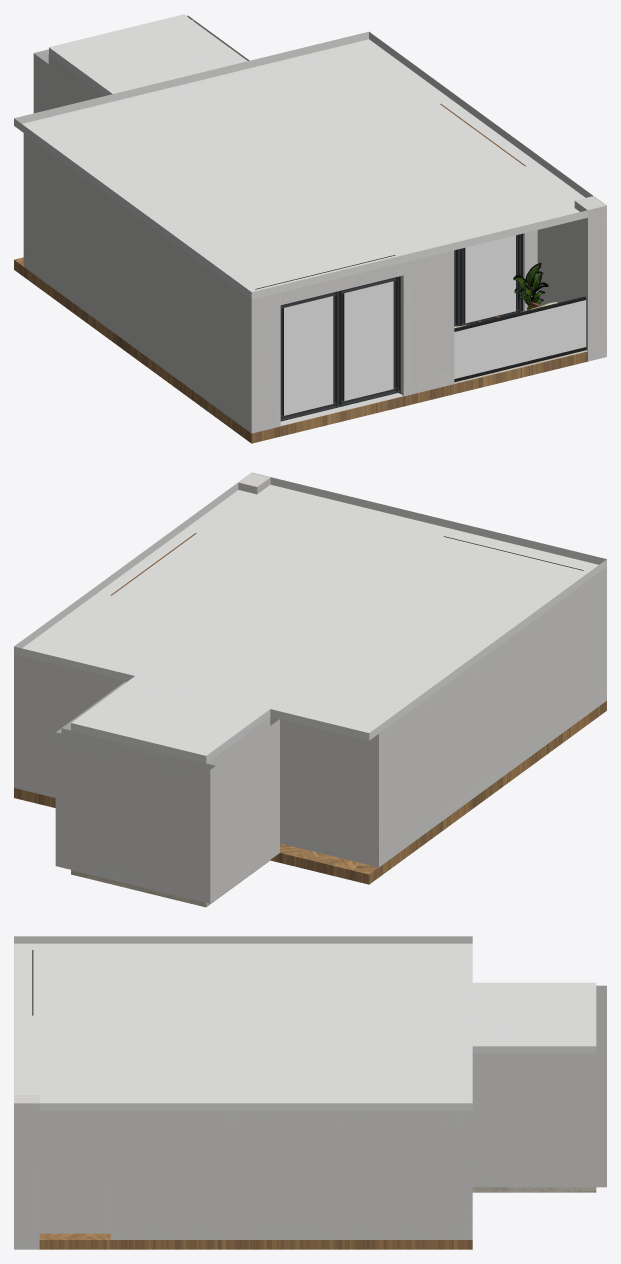
The picture shows the model from 3 angles, top to bottom: view 1: azimuth 30°, elevation 25°; view 2: azimuth 150°, elevation 25°; view 3: azimuth 270°, elevation 25°; orthographic projection. The views are drawn at different scales.
Visible parts, largest first — view 1: ceiling, wall, landing_ceiling, column, rail_glass, floor, living_window_glass1, living_window_glass0, wall.022, loggia_wall_end, bedroom_loggia_glass1, wall.025 (+8 smaller); view 2: ceiling, wall, landing_wall_n, wall.001, landing_ceiling, landing_wall_w, wall.005, floor, wall.017, wall.022, landing_floor; view 3: ceiling, wall.017, landing_wall_e, landing_ceiling, wall.025, floor, loggia_wall_end, landing_wall_n, wall.021, wall.005, landing_floor.
Part boxes in pixels (x1,y1,x2,y2): ceiling: [14, 31, 606, 299]; wall: [30, 138, 244, 428]; landing_ceiling: [49, 14, 247, 95]; column: [406, 250, 454, 395]; rail_glass: [454, 300, 585, 378]; floor: [14, 257, 587, 443]; living_window_glass1: [344, 281, 393, 400]; living_window_glass0: [284, 296, 333, 415]; wall.022: [244, 293, 280, 433]; loggia_wall_end: [574, 196, 606, 361]; bedroom_loggia_glass1: [465, 235, 515, 323]; wall.025: [537, 221, 574, 305]; ceiling: [14, 472, 606, 740]; wall: [386, 572, 599, 861]; landing_wall_n: [55, 728, 215, 903]; wall.001: [280, 719, 385, 867]; landing_ceiling: [71, 676, 270, 763]; landing_wall_w: [206, 716, 279, 899]; wall.005: [26, 657, 124, 797]; floor: [14, 701, 606, 884]; wall.017: [14, 654, 25, 790]; wall.022: [600, 567, 606, 705]; landing_floor: [71, 860, 270, 907]; ceiling: [14, 936, 472, 1110]; wall.017: [121, 1110, 461, 1239]; landing_wall_e: [472, 1053, 596, 1187]; landing_ceiling: [472, 982, 596, 1053]; wall.025: [39, 1110, 110, 1233]; floor: [39, 1233, 472, 1249]; loggia_wall_end: [14, 1095, 39, 1249]; landing_wall_n: [596, 985, 606, 1187]; wall.021: [110, 1110, 121, 1239]; wall.005: [462, 1110, 472, 1239]; landing_floor: [472, 1187, 596, 1192].
Bounding box in the file's own units: 7.36 × 3 × 11.03.
137 materials, 77 textured.
